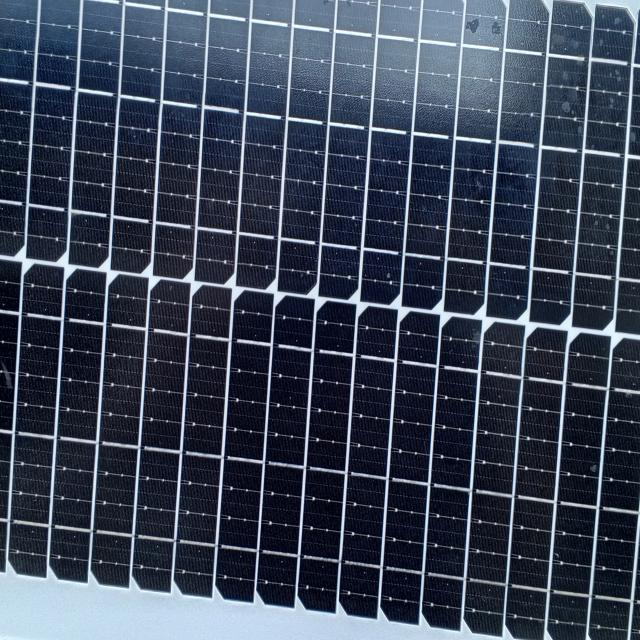Clean: (6, 4, 640, 634)
